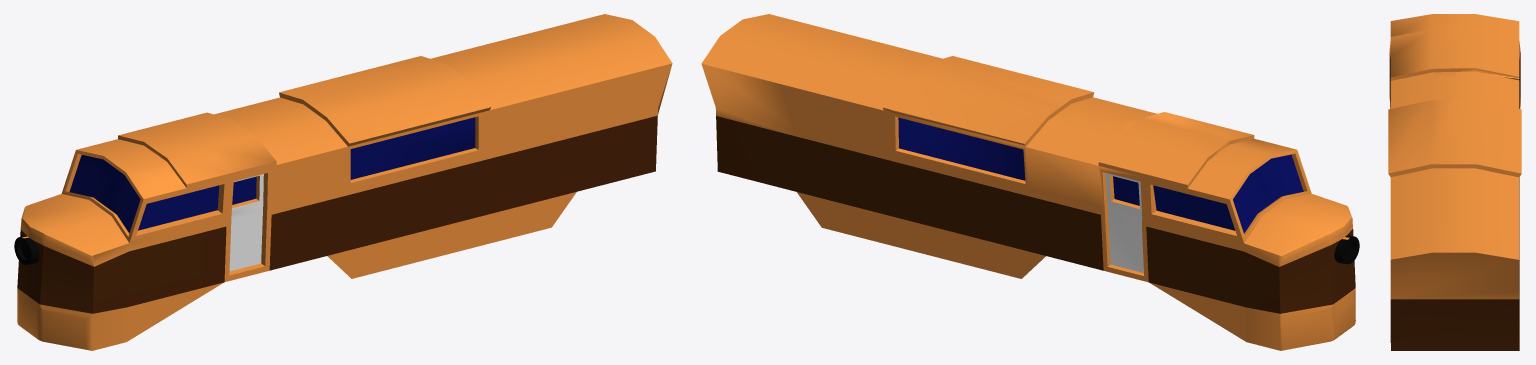
File: train.fbx
3 renders of one model, left to right at view 1: azimuth 30°, elevation 25°; view 2: azimuth 150°, elevation 25°; view 3: azimuth 270°, elevation 25°, orthographic. The views are drawn at different scales.
Visible parts, largest first — view 1: Cylinder.001; view 2: Cylinder.001; view 3: Cylinder.001.
Boxes of the visible parts, x1,y1,x2,y2 form: Cylinder.001: (14,14,672,350); Cylinder.001: (701,14,1359,350); Cylinder.001: (1388,14,1521,350).
Bounding box in the file's own units: 1375 × 334 × 270.
